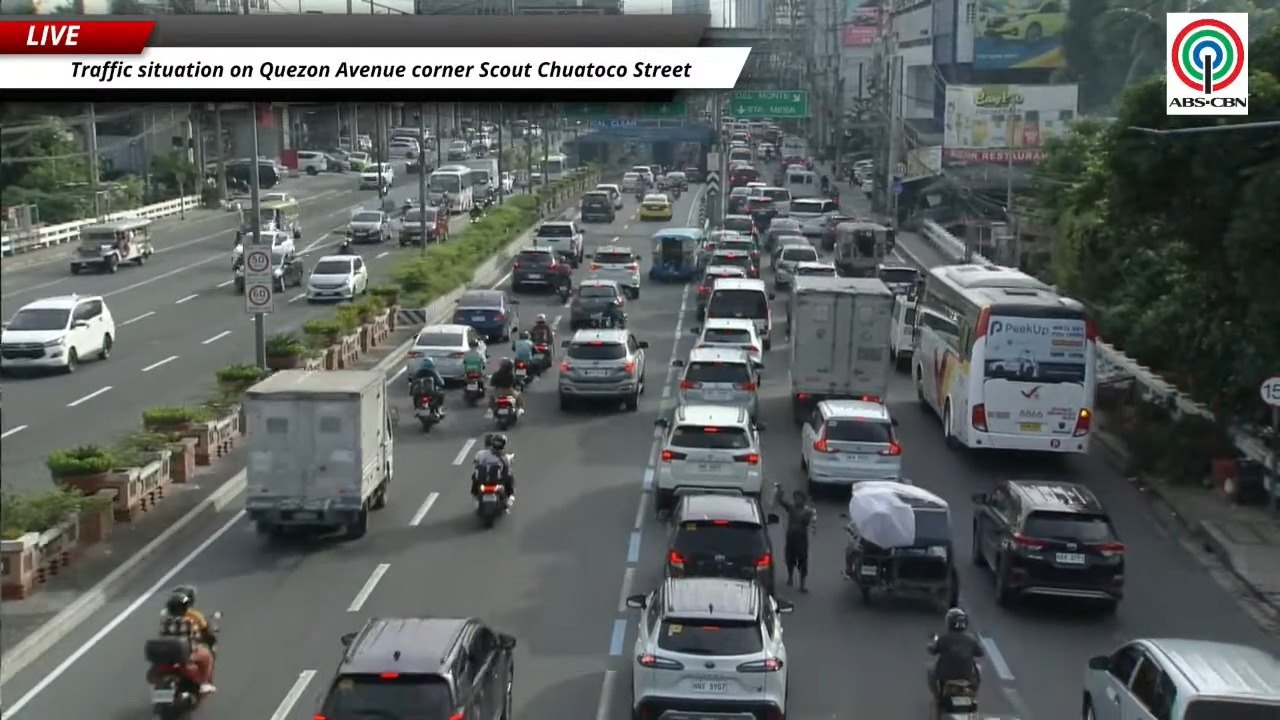bus: (911, 264, 1096, 452), (427, 166, 474, 213), (538, 153, 569, 181)
car: (626, 578, 793, 719), (316, 618, 515, 719), (972, 480, 1124, 611), (1081, 639, 1279, 719), (655, 404, 763, 514), (665, 493, 778, 594), (800, 398, 901, 490), (0, 295, 115, 373), (557, 330, 647, 410), (673, 346, 758, 417), (407, 323, 486, 381), (976, 0, 1066, 45), (692, 318, 763, 368), (453, 290, 519, 341), (306, 255, 369, 302), (569, 279, 625, 330), (696, 264, 748, 317), (589, 245, 640, 299), (533, 220, 583, 267), (393, 206, 448, 246), (512, 246, 559, 291), (772, 243, 819, 288), (890, 294, 915, 371), (789, 198, 838, 237), (716, 235, 760, 276), (270, 248, 305, 292), (346, 210, 391, 243), (820, 213, 856, 251), (877, 263, 921, 294), (709, 249, 757, 277), (580, 190, 616, 222), (766, 217, 803, 247), (703, 229, 744, 256), (359, 162, 393, 189), (639, 193, 673, 220), (297, 150, 333, 175), (261, 230, 295, 254), (722, 214, 757, 237), (792, 261, 837, 277), (595, 184, 623, 209), (726, 186, 750, 214), (388, 137, 420, 157), (445, 140, 470, 162), (630, 165, 655, 186), (621, 172, 646, 193), (347, 151, 372, 171), (259, 191, 297, 204), (664, 171, 688, 189), (683, 166, 702, 182)
motorcycle: (144, 637, 202, 719), (927, 665, 978, 718), (935, 680, 977, 719), (476, 484, 505, 528), (414, 394, 442, 432), (490, 395, 519, 430), (463, 372, 485, 406), (583, 313, 626, 329), (531, 344, 550, 376), (513, 360, 529, 389), (556, 276, 572, 302), (233, 242, 243, 270), (469, 206, 485, 223), (635, 190, 645, 203), (672, 186, 681, 199)
truck: (244, 369, 393, 538), (786, 276, 892, 421), (460, 157, 499, 199)
